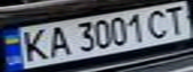0: (90, 17, 112, 50), (109, 13, 130, 46)
1: (124, 11, 148, 43)
3: (72, 19, 96, 53)
A: (42, 22, 72, 58)
C: (142, 7, 175, 39)
K: (15, 26, 51, 63)
T: (160, 2, 190, 35)
